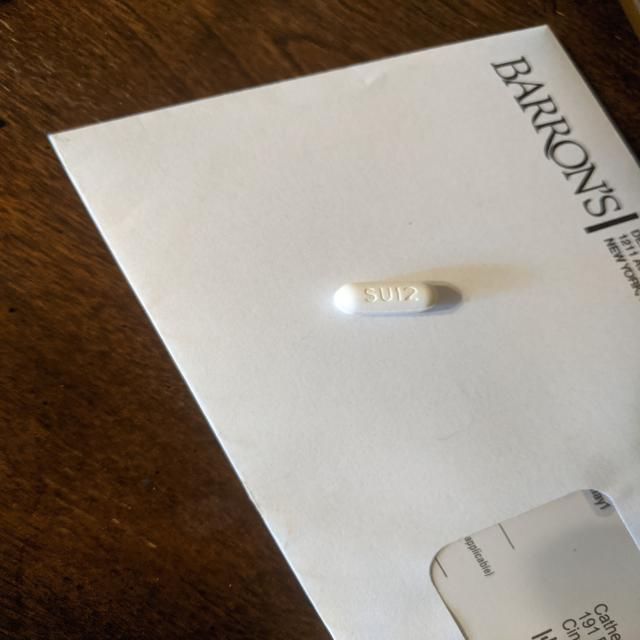non-organic waste: (332, 280, 441, 316)
